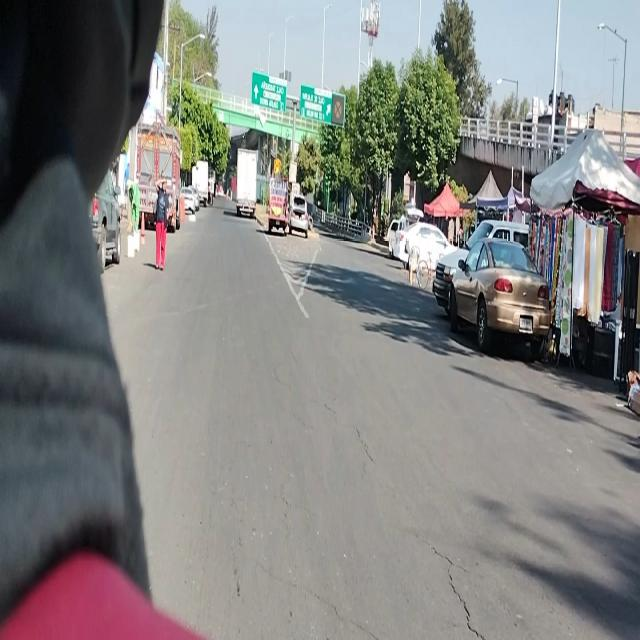adult: (155, 174, 172, 271)
